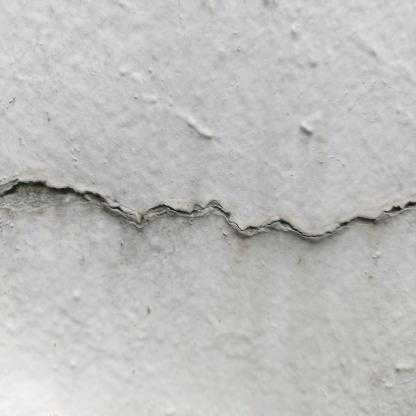crack: (0, 181, 416, 238)
